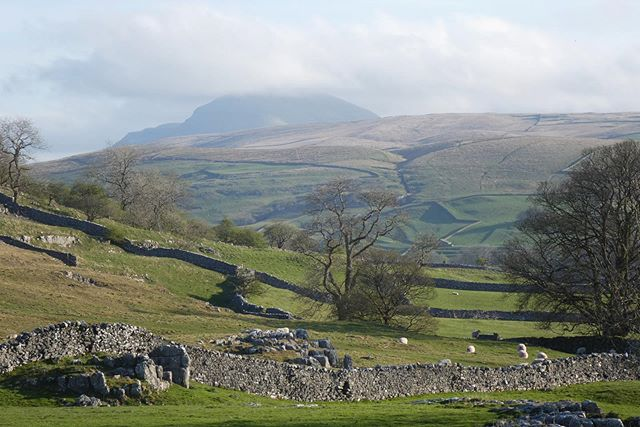mountain: (188, 68, 365, 120)
sky: (1, 1, 610, 123)
tree: (511, 135, 640, 361), (296, 175, 434, 334), (1, 116, 53, 212), (80, 141, 150, 207)
